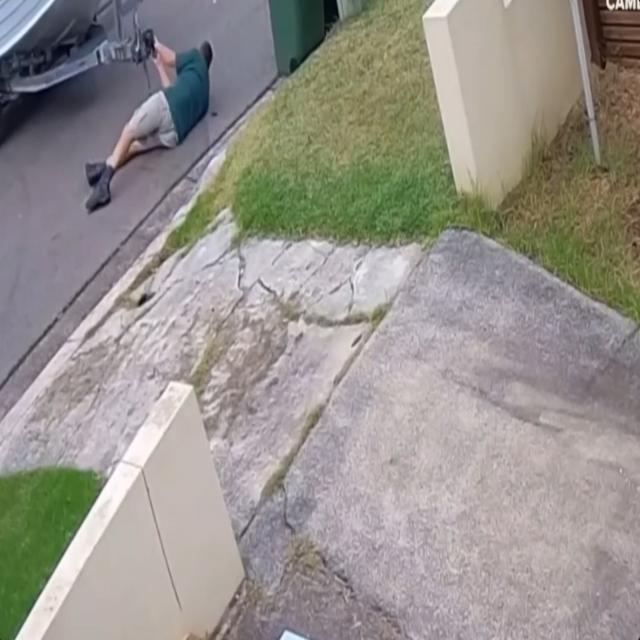fallen: (85, 39, 212, 212)
